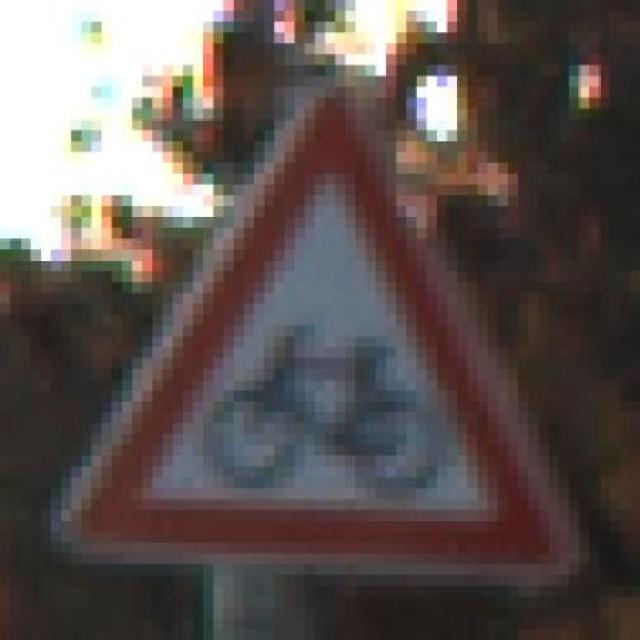CYCLE ROUTE AHEAD WARNING: (41, 43, 599, 608)
